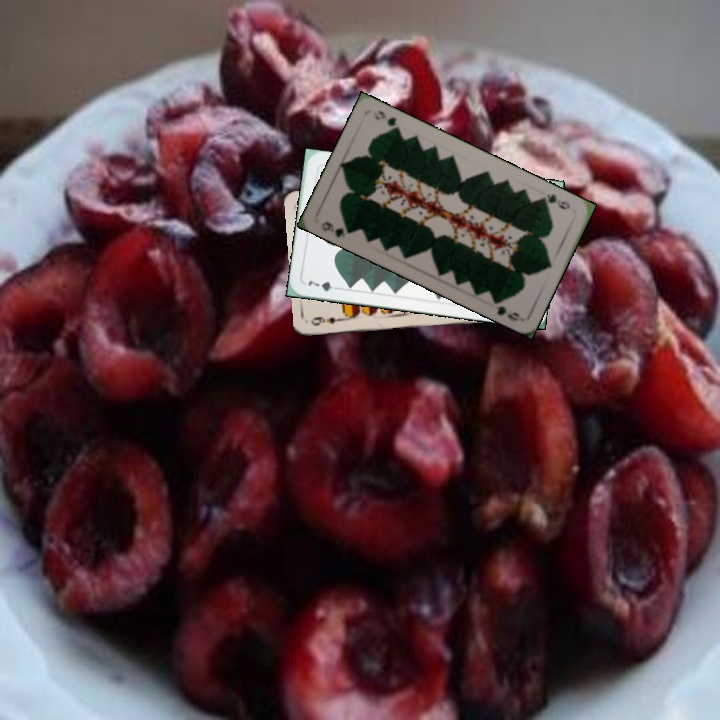E9: (307, 312, 347, 328)
G7: (304, 276, 343, 294)
G9: (317, 217, 356, 240), (536, 190, 573, 212)
